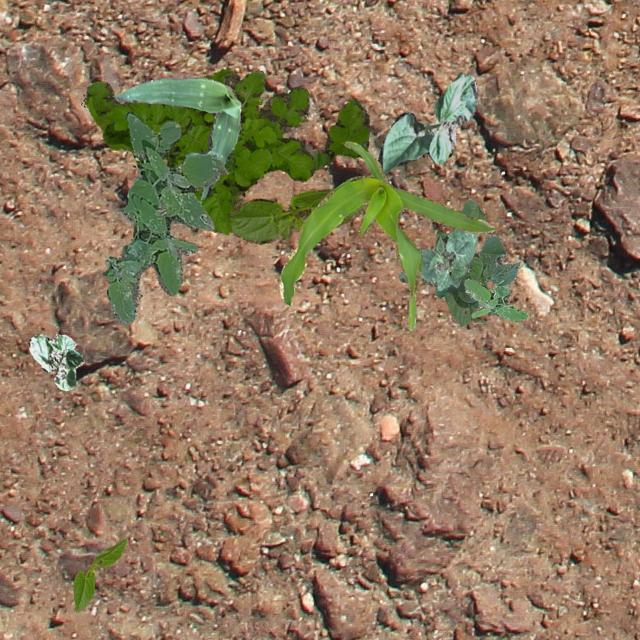crop: (278, 140, 496, 330), (396, 198, 518, 324), (113, 76, 240, 196), (376, 72, 476, 174), (228, 188, 366, 244), (72, 538, 126, 610), (419, 228, 476, 290), (28, 332, 82, 390)
weed: (84, 68, 368, 234), (101, 110, 228, 322), (462, 278, 526, 320)
